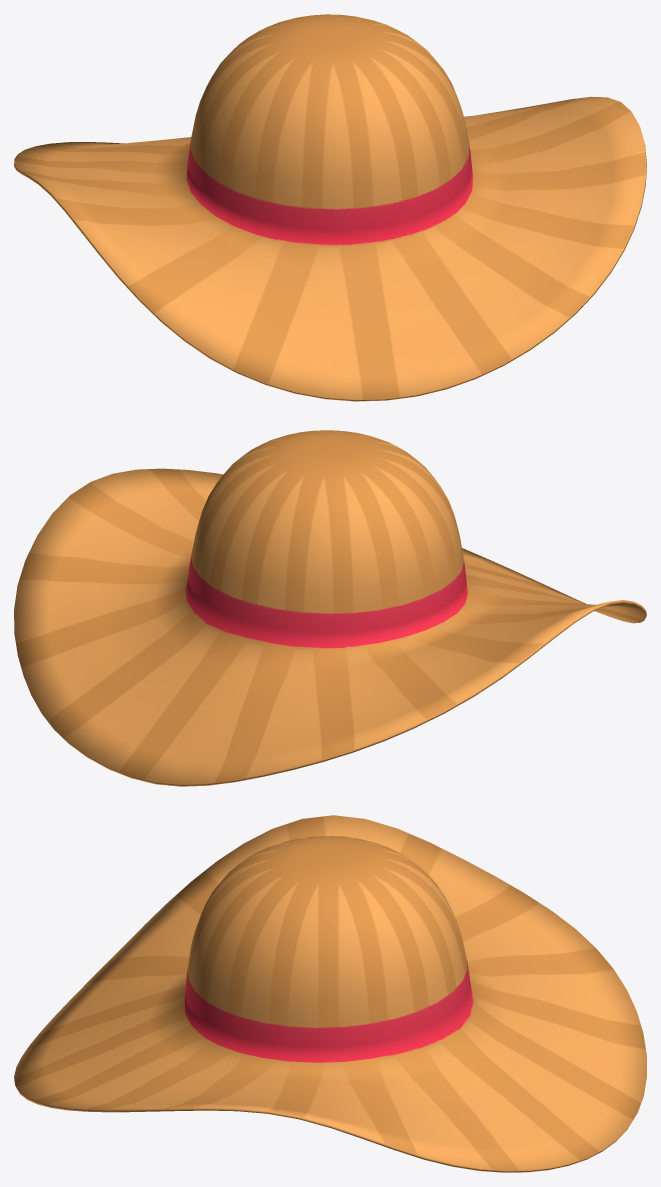
The model's file is Summerhat1.fbx.
3 renders of one model, top to bottom at view 1: azimuth 30°, elevation 25°; view 2: azimuth 150°, elevation 25°; view 3: azimuth 270°, elevation 25°, orthographic. The views are drawn at different scales.
Visible parts, largest first — view 1: Summerhat1; view 2: Summerhat1; view 3: Summerhat1.
Boxes of the visible parts, x1=… form: Summerhat1: x1=14, y1=14, x2=646, y2=401; Summerhat1: x1=14, y1=430, x2=646, y2=786; Summerhat1: x1=14, y1=815, x2=646, y2=1172.
Bounding box in the file's own units: 76.78 × 31.05 × 75.37.
